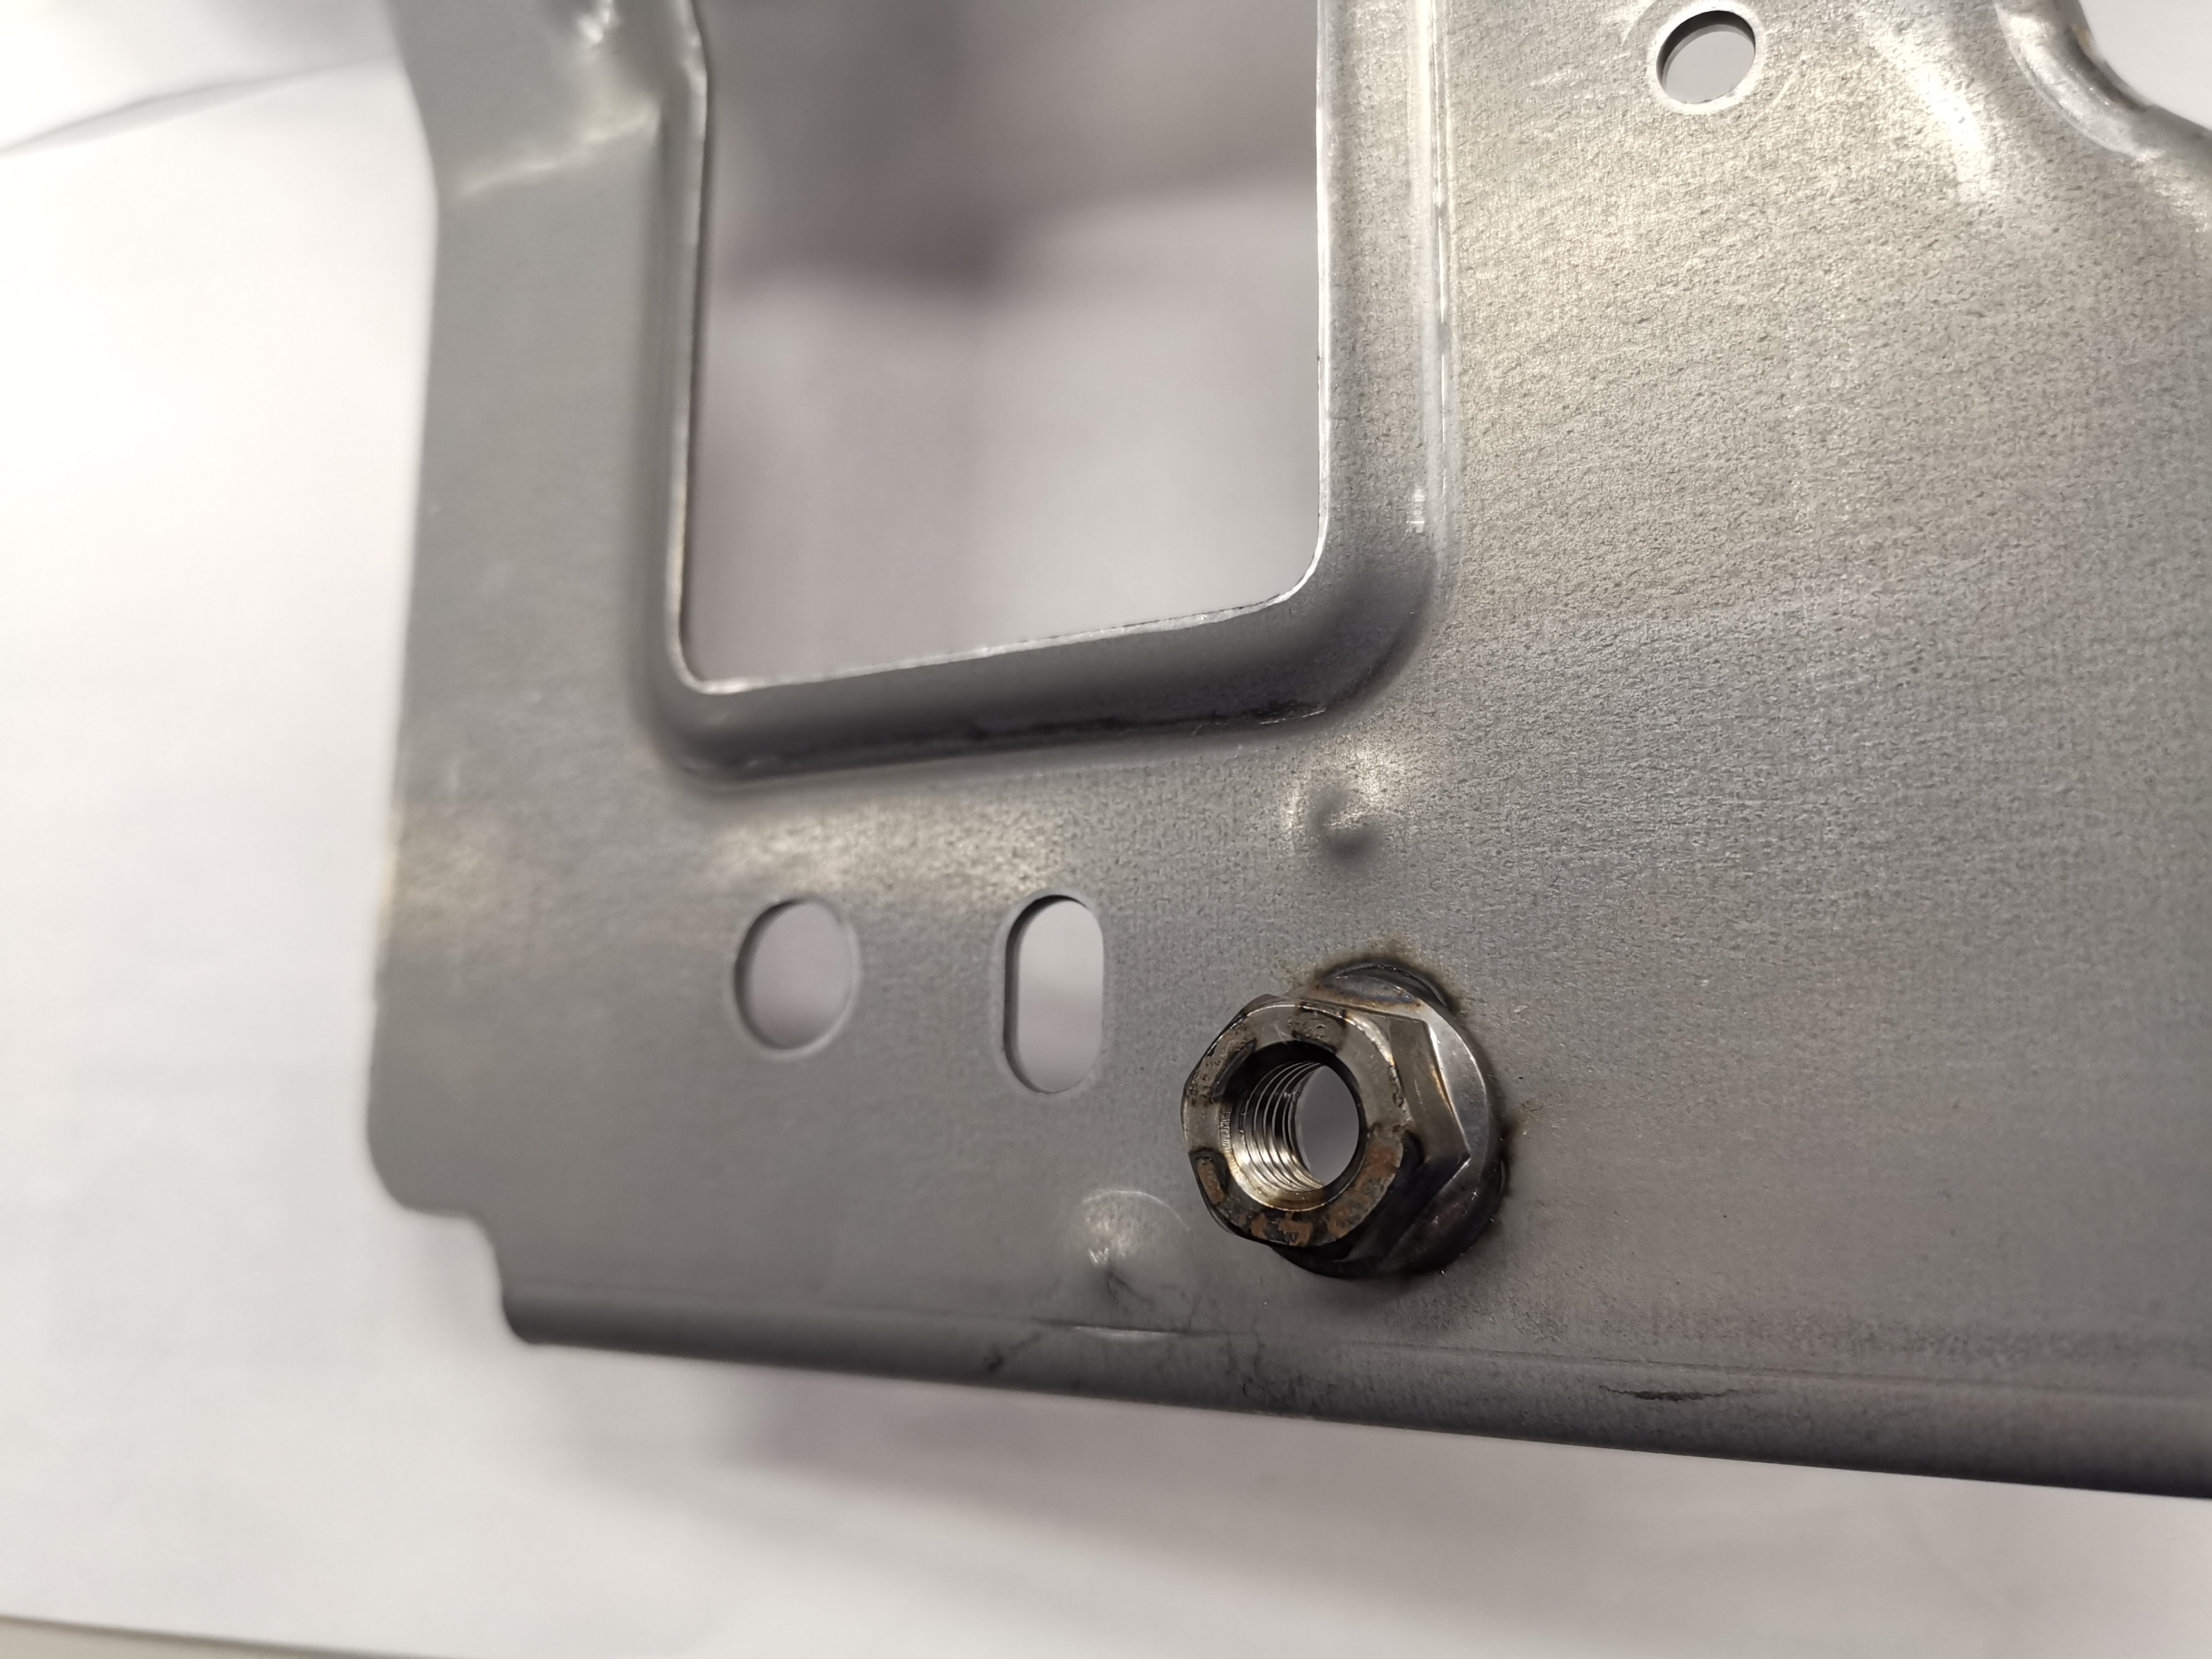dog: (1172, 941, 1524, 1293)
